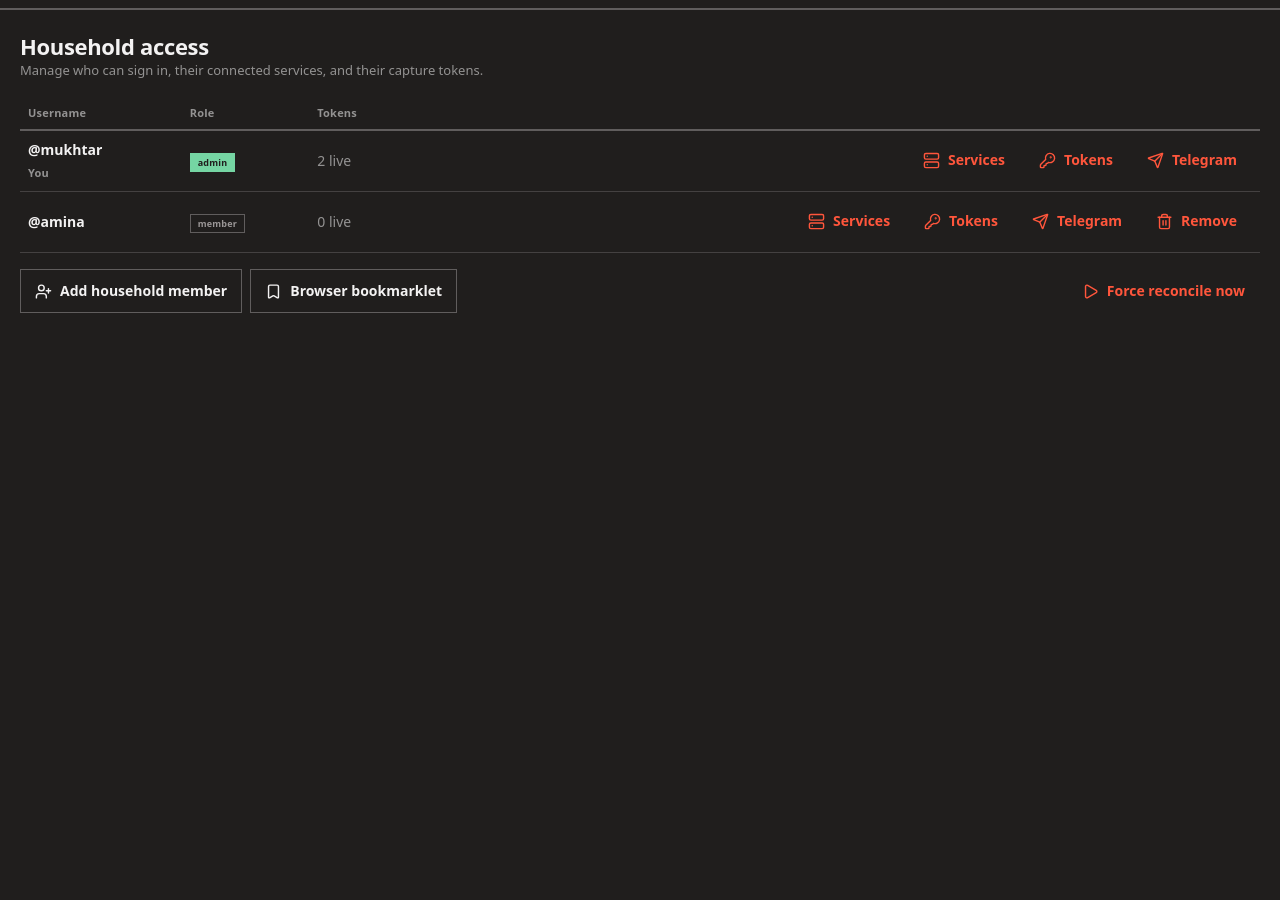
Test case: household › opens the member form in a dialog
The width and height of the screenshot is (1280, 900).
Click the button "Add household member". click: click(131, 291)
box: left=20, top=269, right=242, bottom=313
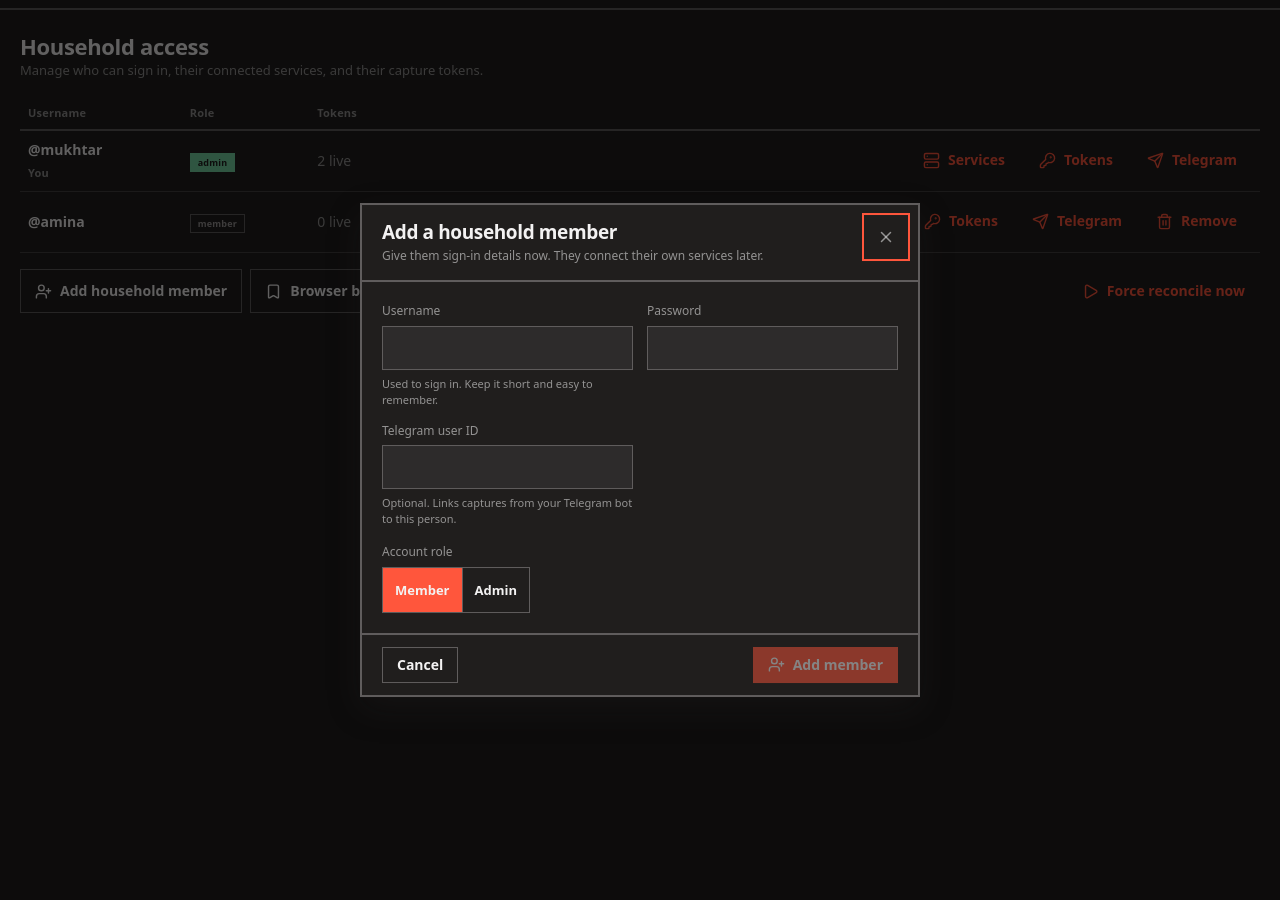
Expected: the dialog "Add a household member" is shown, left=360, top=203, right=920, bottom=697
Expected: the field labelled "Username" is shown, left=382, top=326, right=633, bottom=370
